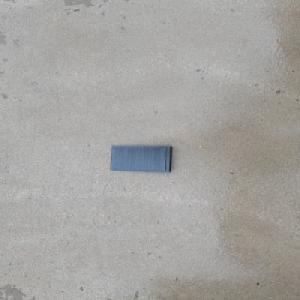PlasticPart: (109, 144, 174, 173)
